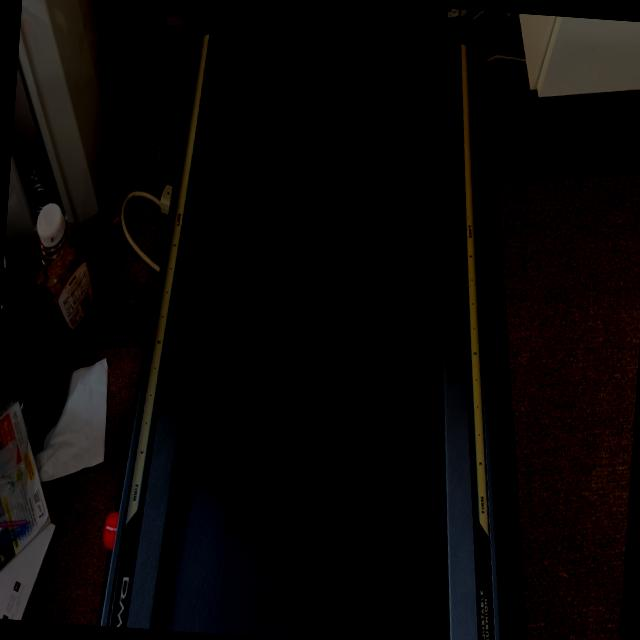Trash: (274, 8, 390, 100)
